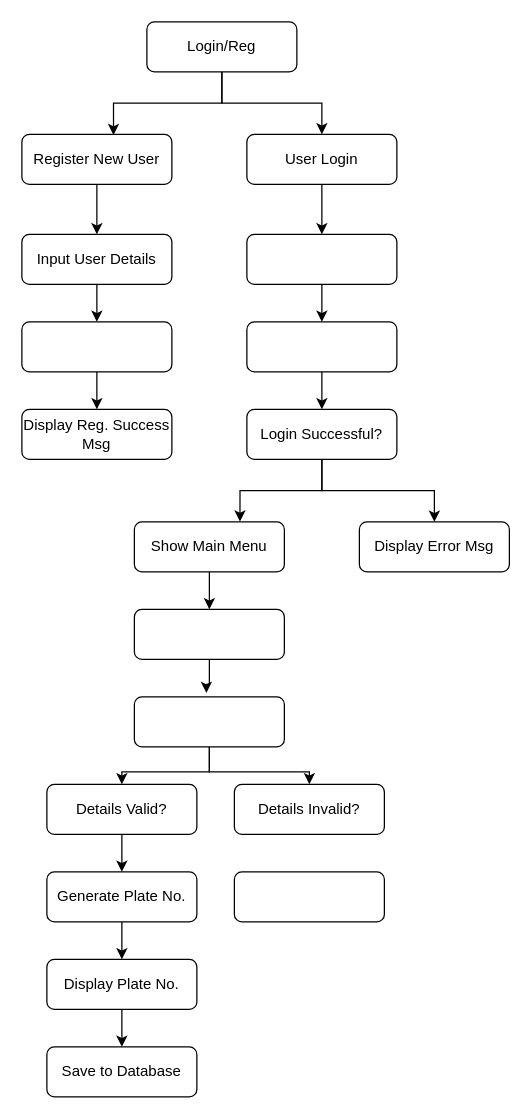
The diagram is 531 pixels wide and 1119 high, and some of its shapes have lost their labels. The shapes that lost their labels are listed below. From the top down, each one's box as (x1, y1, x2, y2) in pixels, then its label:
(246, 233, 397, 284): Input Login Details
(21, 321, 172, 372): Save User Details
(246, 321, 397, 372): Validate Login
(133, 608, 284, 659): Input Vehicle Details
(133, 696, 284, 747): Validate Details
(233, 871, 384, 922): Display Error Message|
